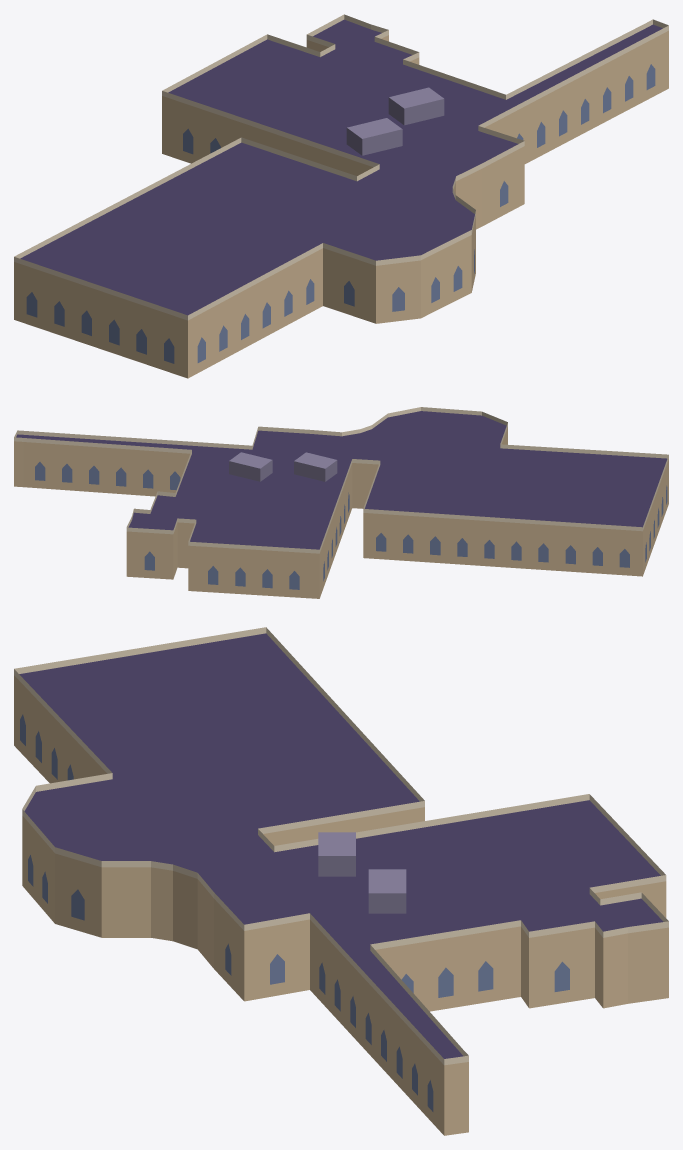
The model's file is b-027-day.glb.
3 views of the same model, one above another, from view 1: azimuth 30°, elevation 25°; view 2: azimuth 150°, elevation 25°; view 3: azimuth 270°, elevation 25° (orthographic). The views are drawn at different scales.
Visible parts, largest first — view 1: campus/b-027-day-0; view 2: campus/b-027-day-0; view 3: campus/b-027-day-0.
Boxes of the visible parts, box(x1,y1,x2,y2) form: campus/b-027-day-0: box(14, 14, 668, 378); campus/b-027-day-0: box(14, 407, 668, 598); campus/b-027-day-0: box(14, 627, 668, 1135).
Size of the model in its own units: 81.44 by 8 by 52.19.
